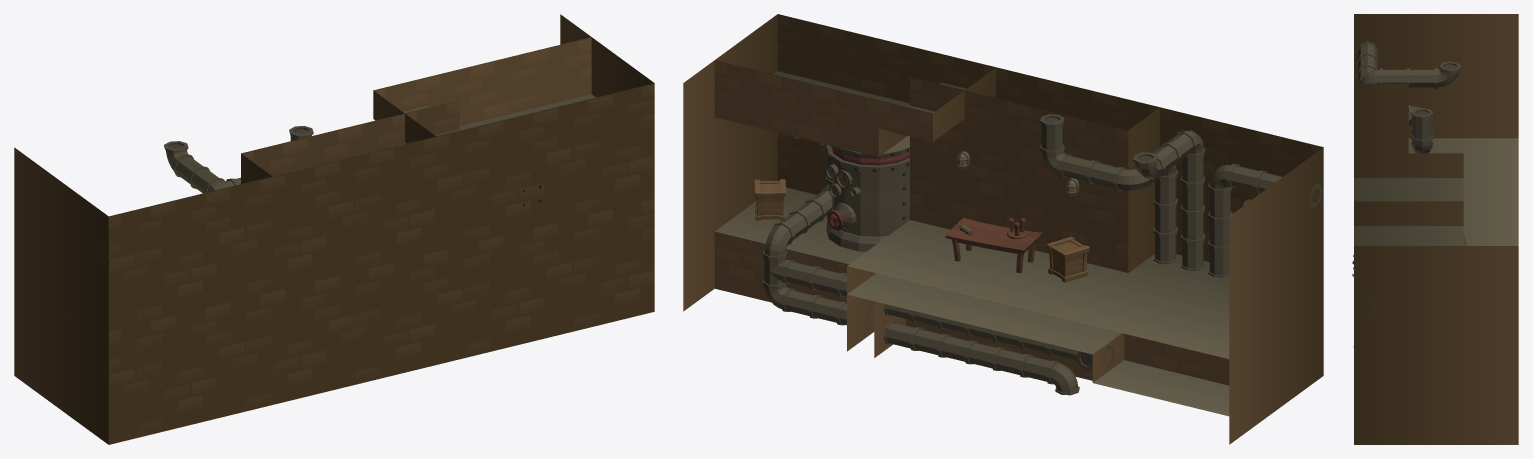
The model's file is Room23_8x20.fbx.
3 renders of one model, left to right at view 1: azimuth 30°, elevation 25°; view 2: azimuth 150°, elevation 25°; view 3: azimuth 270°, elevation 25°, orthographic. The views are drawn at different scales.
Parts seen in each view (by area): view 1: Room23_8x20; view 2: Room23_8x20; view 3: Room23_8x20.
Part boxes in pixels (left/top/right/bottom): Room23_8x20: left=14, top=14, right=654, bottom=444; Room23_8x20: left=683, top=14, right=1323, bottom=444; Room23_8x20: left=1352, top=14, right=1518, bottom=444.
Bounding box in the file's own units: 2000 × 605 × 801.
